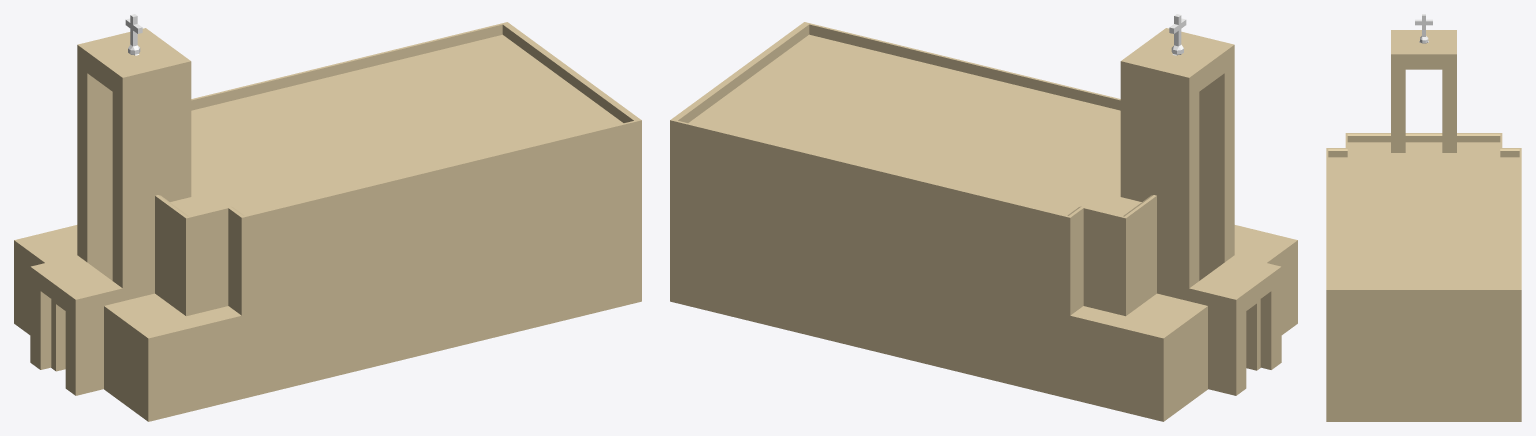
The model's file is St_Nicholas.gltf.
The picture shows the model from 3 angles, left to right: view 1: azimuth 30°, elevation 25°; view 2: azimuth 150°, elevation 25°; view 3: azimuth 270°, elevation 25°; orthographic projection. The views are drawn at different scales.
Visible parts, largest first — view 1: Cube, Cube.003, Cube.005, Cube.006, Cube.004, Cube.007; view 2: Cube, Cube.003, Cube.004, Cube.006, Cube.005, Cube.007; view 3: Cube, Cube.003, Cube.001.
Part boxes in pixels (x1,y1,x2,y2): Cube: (155, 22, 641, 398); Cube.003: (77, 28, 191, 301); Cube.005: (104, 293, 241, 421); Cube.006: (30, 255, 122, 395); Cube.004: (14, 225, 77, 334); Cube.007: (51, 299, 65, 371); Cube: (670, 22, 1156, 398); Cube.003: (1120, 28, 1234, 301); Cube.004: (1070, 293, 1207, 421); Cube.006: (1189, 255, 1281, 395); Cube.005: (1234, 225, 1297, 334); Cube.007: (1246, 299, 1260, 370); Cube: (1326, 133, 1521, 421); Cube.003: (1391, 30, 1456, 152); Cube.001: (1415, 14, 1432, 43).
Size of the model in its own units: 18.09 by 11.41 by 8.07.
